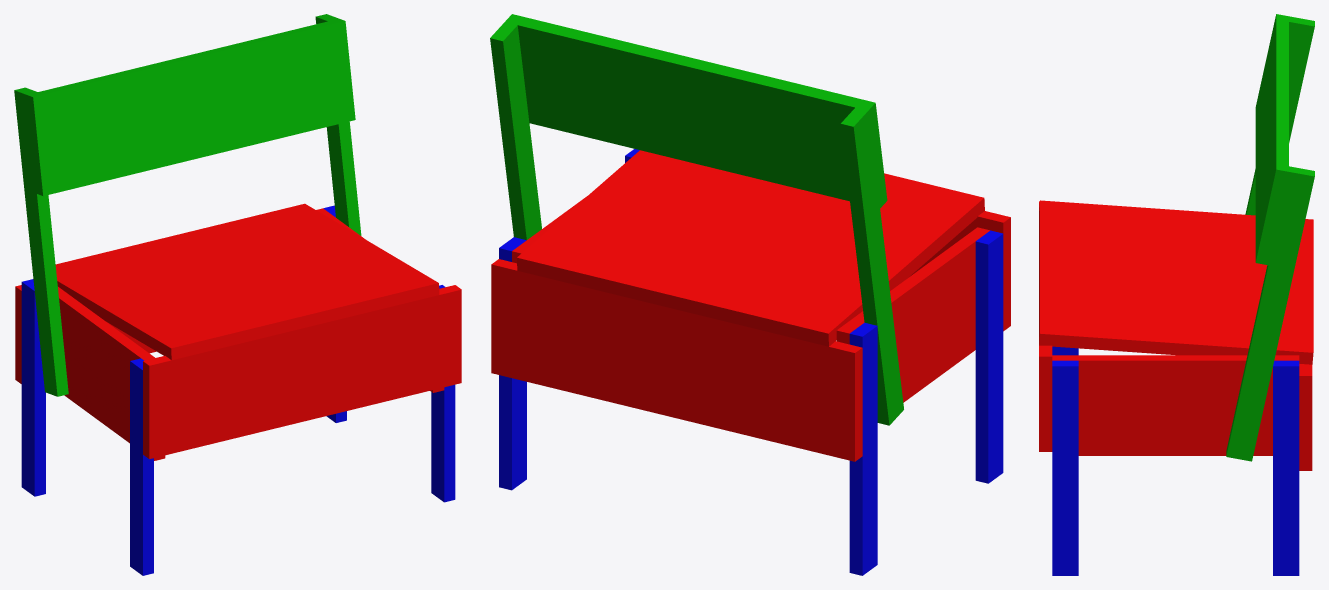
File: result.glb
3 views of the same model, side by side, from view 1: azimuth 30°, elevation 25°; view 2: azimuth 150°, elevation 25°; view 3: azimuth 270°, elevation 25° (orthographic). The views are drawn at different scales.
Parts seen in each view (by area): view 1: a4565855-9d83-4f2d-8194-d1e163ed6d85__back rest plank, 49e7ac56-b193-4a2a-ab5a-bb7beb0594f6__back rest plank, d2951200-d84e-43f4-b069-7537876678f1__base front, 18432237-ab97-43a4-96f1-148e7db1b6af__base front, 4cb1fc17-88d8-4b8c-a3b5-0fa6b07a44d2__seat board, c905c960-5503-4da1-9945-c235d0f4d831__back rest diagonal, bb91b424-6562-4a19-a4ae-71bc7d7be026__seat board, 8ec5ec1e-e66f-48df-9494-95bc23b2ce57__seat board, 99684959-7e20-4f08-b04b-154312db5f3f__seat board, 10f1aff7-5518-4285-986b-de50bebb76c4__seat board, 256580f2-aeb9-47f8-b9bd-15d3c010ea4c__seat board, fe3a7dd1-9649-43aa-a9e5-ab37ce9e3d79__leg back left (+5 smaller); view 2: 2ef9748b-61ec-40a1-8e78-44dc3b03dc58__base back, 7d1b6f5b-12d8-44ba-8cc0-a8061a6b3f0b__base back, a4565855-9d83-4f2d-8194-d1e163ed6d85__back rest plank, 49e7ac56-b193-4a2a-ab5a-bb7beb0594f6__back rest plank, 4cb1fc17-88d8-4b8c-a3b5-0fa6b07a44d2__seat board, c905c960-5503-4da1-9945-c235d0f4d831__back rest diagonal, 256580f2-aeb9-47f8-b9bd-15d3c010ea4c__seat board, bb91b424-6562-4a19-a4ae-71bc7d7be026__seat board, 10f1aff7-5518-4285-986b-de50bebb76c4__seat board, 99684959-7e20-4f08-b04b-154312db5f3f__seat board, 8ec5ec1e-e66f-48df-9494-95bc23b2ce57__seat board, 80eb9278-e368-4528-a04e-6f74e18d5df0__leg front left (+6 smaller); view 3: 59396a11-01fc-4c66-9fb6-db16f384abee__base right, bb91b424-6562-4a19-a4ae-71bc7d7be026__seat board, 727a10cc-b2e0-4da3-b4d1-48e7cd6d5f81__back rest diagonal, 0e7c4c84-9699-42fd-b21c-02cb22ce0208__base right, a885ba12-9579-4d35-8cd1-762002c69b52__leg front right, f169c7c8-3117-4ac4-934d-7005816cd5f6__leg back right, 99684959-7e20-4f08-b04b-154312db5f3f__seat board, 10f1aff7-5518-4285-986b-de50bebb76c4__seat board, 8ec5ec1e-e66f-48df-9494-95bc23b2ce57__seat board, 256580f2-aeb9-47f8-b9bd-15d3c010ea4c__seat board, 4cb1fc17-88d8-4b8c-a3b5-0fa6b07a44d2__seat board, a4565855-9d83-4f2d-8194-d1e163ed6d85__back rest plank (+6 smaller).
Boxes of the visible parts, left/top/right/bottom form: a4565855-9d83-4f2d-8194-d1e163ed6d85__back rest plank: left=27, top=18, right=350, bottom=146; 49e7ac56-b193-4a2a-ab5a-bb7beb0594f6__back rest plank: left=32, top=70, right=355, bottom=196; d2951200-d84e-43f4-b069-7537876678f1__base front: left=143, top=285, right=461, bottom=412; 18432237-ab97-43a4-96f1-148e7db1b6af__base front: left=143, top=336, right=461, bottom=458; 4cb1fc17-88d8-4b8c-a3b5-0fa6b07a44d2__seat board: left=55, top=258, right=216, bottom=360; c905c960-5503-4da1-9945-c235d0f4d831__back rest diagonal: left=14, top=87, right=68, bottom=396; bb91b424-6562-4a19-a4ae-71bc7d7be026__seat board: left=260, top=203, right=439, bottom=305; 8ec5ec1e-e66f-48df-9494-95bc23b2ce57__seat board: left=127, top=236, right=305, bottom=338; 99684959-7e20-4f08-b04b-154312db5f3f__seat board: left=216, top=214, right=394, bottom=316; 10f1aff7-5518-4285-986b-de50bebb76c4__seat board: left=171, top=225, right=350, bottom=327; 256580f2-aeb9-47f8-b9bd-15d3c010ea4c__seat board: left=82, top=247, right=260, bottom=349; fe3a7dd1-9649-43aa-a9e5-ab37ce9e3d79__leg back left: left=21, top=279, right=45, bottom=496; 2ef9748b-61ec-40a1-8e78-44dc3b03dc58__base back: left=491, top=259, right=862, bottom=407; 7d1b6f5b-12d8-44ba-8cc0-a8061a6b3f0b__base back: left=491, top=319, right=862, bottom=461; a4565855-9d83-4f2d-8194-d1e163ed6d85__back rest plank: left=505, top=14, right=881, bottom=159; 49e7ac56-b193-4a2a-ab5a-bb7beb0594f6__back rest plank: left=523, top=74, right=887, bottom=208; 4cb1fc17-88d8-4b8c-a3b5-0fa6b07a44d2__seat board: left=776, top=185, right=984, bottom=346; c905c960-5503-4da1-9945-c235d0f4d831__back rest diagonal: left=840, top=107, right=903, bottom=425; 256580f2-aeb9-47f8-b9bd-15d3c010ea4c__seat board: left=724, top=173, right=931, bottom=333; bb91b424-6562-4a19-a4ae-71bc7d7be026__seat board: left=517, top=150, right=691, bottom=283; 10f1aff7-5518-4285-986b-de50bebb76c4__seat board: left=620, top=175, right=795, bottom=308; 99684959-7e20-4f08-b04b-154312db5f3f__seat board: left=568, top=163, right=743, bottom=295; 8ec5ec1e-e66f-48df-9494-95bc23b2ce57__seat board: left=672, top=188, right=847, bottom=321; 80eb9278-e368-4528-a04e-6f74e18d5df0__leg front left: left=975, top=230, right=1003, bottom=483; 59396a11-01fc-4c66-9fb6-db16f384abee__base right: left=1052, top=355, right=1299, bottom=408; bb91b424-6562-4a19-a4ae-71bc7d7be026__seat board: left=1039, top=311, right=1313, bottom=364; 727a10cc-b2e0-4da3-b4d1-48e7cd6d5f81__back rest diagonal: left=1226, top=166, right=1314, bottom=461; 0e7c4c84-9699-42fd-b21c-02cb22ce0208__base right: left=1078, top=408, right=1272, bottom=455; a885ba12-9579-4d35-8cd1-762002c69b52__leg front right: left=1052, top=360, right=1078, bottom=575; f169c7c8-3117-4ac4-934d-7005816cd5f6__leg back right: left=1273, top=360, right=1299, bottom=575; 99684959-7e20-4f08-b04b-154312db5f3f__seat board: left=1039, top=289, right=1313, bottom=330; 10f1aff7-5518-4285-986b-de50bebb76c4__seat board: left=1039, top=267, right=1313, bottom=308; 8ec5ec1e-e66f-48df-9494-95bc23b2ce57__seat board: left=1039, top=245, right=1313, bottom=285; 256580f2-aeb9-47f8-b9bd-15d3c010ea4c__seat board: left=1039, top=222, right=1313, bottom=263; 4cb1fc17-88d8-4b8c-a3b5-0fa6b07a44d2__seat board: left=1039, top=200, right=1313, bottom=241; a4565855-9d83-4f2d-8194-d1e163ed6d85__back rest plank: left=1266, top=14, right=1288, bottom=218.
Size of the model in its own units: 700 by 853 by 525.
